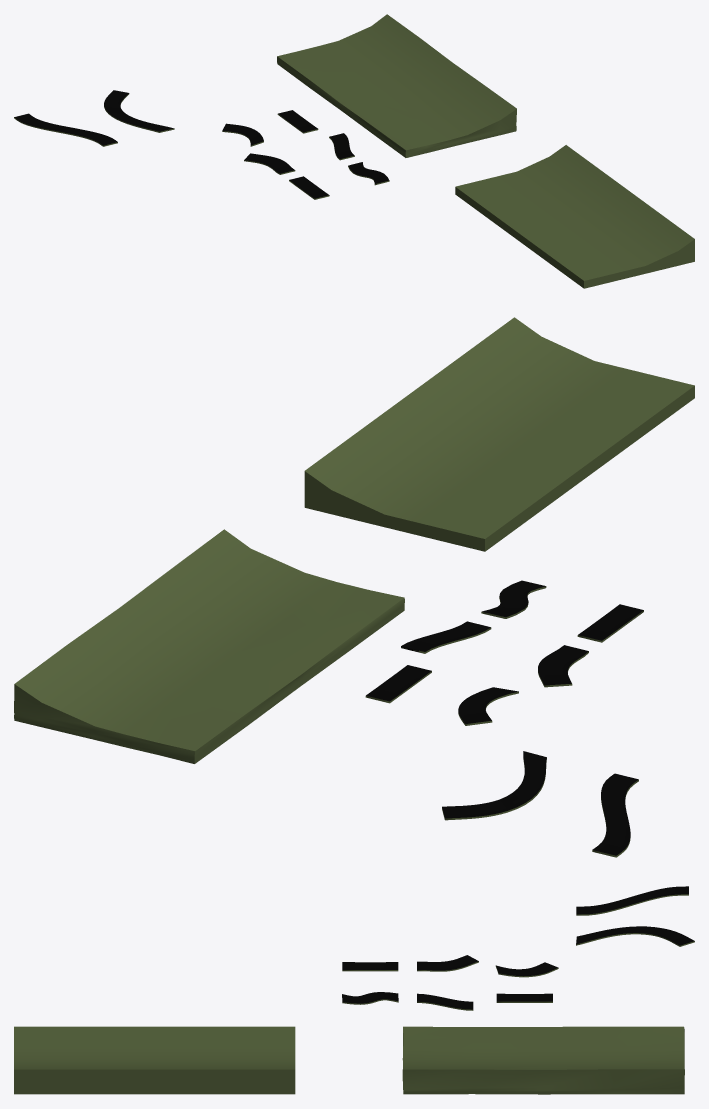
File: RoadTestV3.fbx
3 renders of one model, top to bottom at view 1: azimuth 30°, elevation 25°; view 2: azimuth 150°, elevation 25°; view 3: azimuth 270°, elevation 25°, orthographic. The views are drawn at different scales.
Visible parts, largest first — view 1: Cube, Cube.001, Plane.011, Plane.012, Plane.007, Plane.009, Plane.010, Plane.004, Plane.005; view 2: Cube, Cube.001, Plane.012, Plane.011, Plane.007, Plane.008, Plane.005, Plane.009, Plane.004, Plane.010; view 3: Cube, Cube.001, Plane.012, Plane.011, Plane.007, Plane.004, Plane.009, Plane.005, Plane.008, Plane.010.
Part boxes in pixels (bbox=[...]): Cube: bbox=[455, 145, 694, 288]; Cube.001: bbox=[277, 14, 516, 157]; Plane.011: bbox=[14, 113, 117, 146]; Plane.012: bbox=[104, 90, 174, 132]; Plane.007: bbox=[244, 153, 295, 174]; Plane.009: bbox=[222, 123, 263, 146]; Plane.010: bbox=[277, 110, 318, 133]; Plane.004: bbox=[289, 176, 329, 199]; Plane.005: bbox=[348, 162, 389, 185]; Cube: bbox=[304, 317, 694, 551]; Cube.001: bbox=[14, 529, 404, 763]; Plane.012: bbox=[442, 751, 546, 820]; Plane.011: bbox=[592, 773, 638, 857]; Plane.007: bbox=[538, 645, 588, 687]; Plane.008: bbox=[401, 621, 491, 653]; Plane.005: bbox=[481, 580, 546, 618]; Plane.009: bbox=[458, 687, 518, 725]; Plane.004: bbox=[577, 604, 643, 642]; Plane.010: bbox=[365, 665, 431, 703]; Cube: bbox=[14, 1026, 295, 1094]; Cube.001: bbox=[402, 1026, 684, 1094]; Plane.012: bbox=[576, 926, 694, 946]; Plane.011: bbox=[576, 886, 688, 915]; Plane.007: bbox=[417, 955, 478, 971]; Plane.004: bbox=[342, 962, 398, 971]; Plane.009: bbox=[495, 962, 558, 977]; Plane.005: bbox=[342, 992, 398, 1004]; Plane.008: bbox=[417, 993, 473, 1010]; Plane.010: bbox=[496, 993, 552, 1002].
Size of the model in its own units: 10005 by 591 by 14524.
